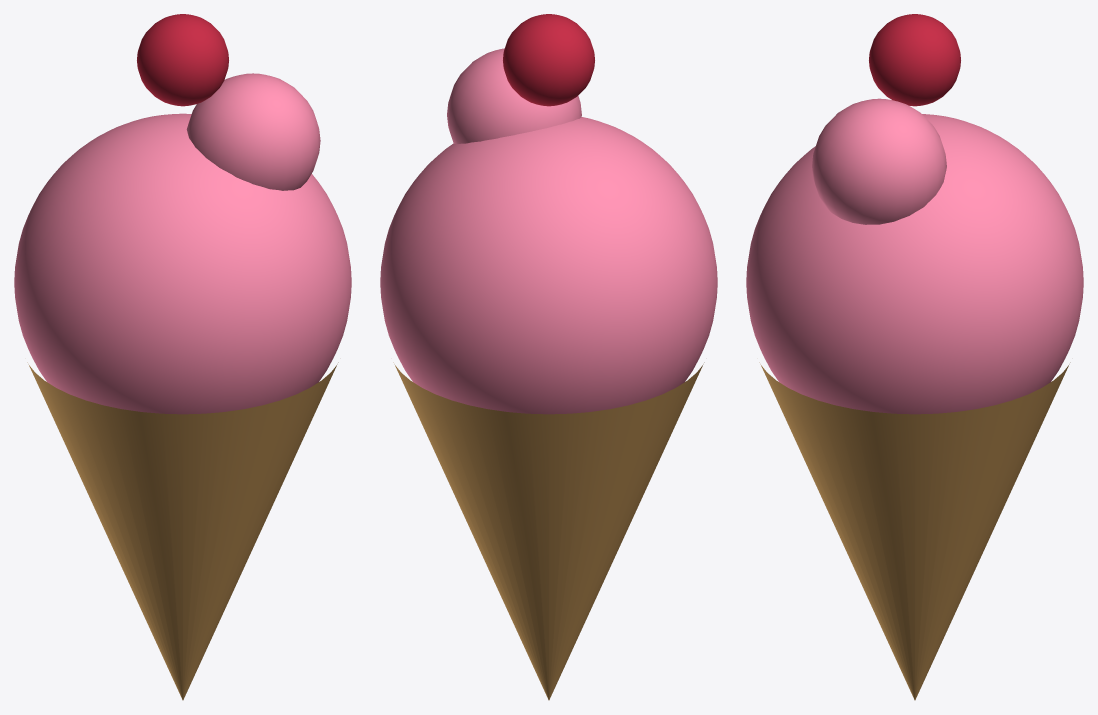
Rendered from icecream.gltf.
3 renders of one model, left to right at view 1: azimuth 30°, elevation 25°; view 2: azimuth 150°, elevation 25°; view 3: azimuth 270°, elevation 25°, orthographic.
Size of the model in its own units: 1.9 by 4.24 by 1.9.
